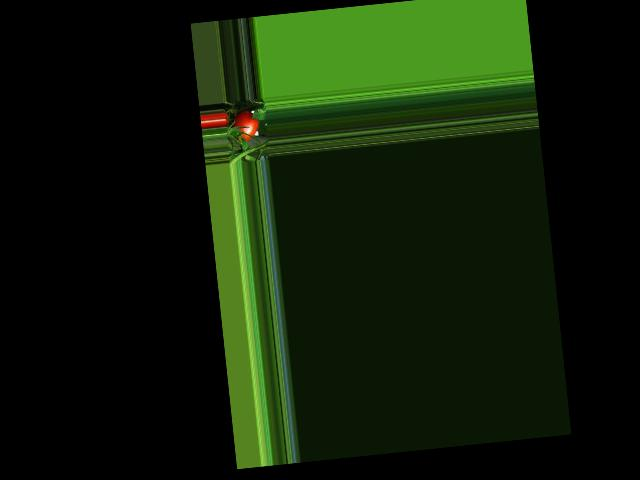tomato: (231, 109, 260, 141)
